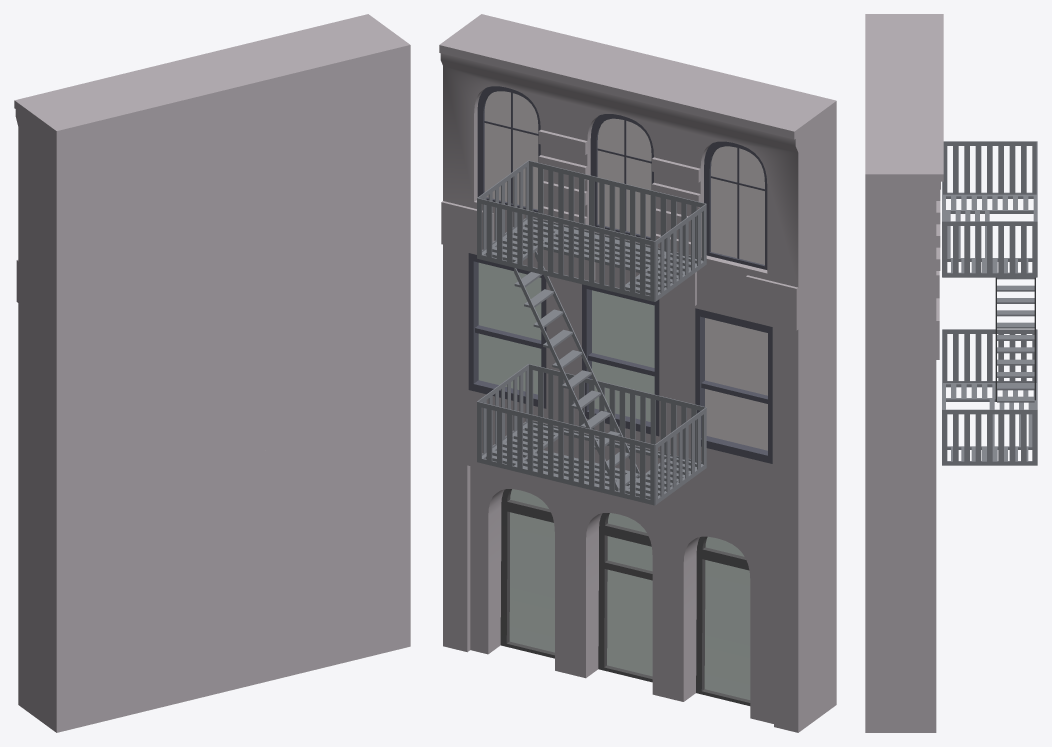
The picture shows the model from 3 angles, left to right: view 1: azimuth 30°, elevation 25°; view 2: azimuth 150°, elevation 25°; view 3: azimuth 270°, elevation 25°; orthographic projection. The views are drawn at different scales.
Visible parts, largest first — view 1: Etage005; view 2: Etage005, esacalier; view 3: Etage005, esacalier.
Part boxes in pixels (x1,y1,x2,y2): Etage005: (14,14,410,732); Etage005: (439,14,836,732); esacalier: (477,160,706,505); Etage005: (865,14,943,732); esacalier: (942,141,1037,465).
Size of the model in its own units: 315 by 512 by 143.
